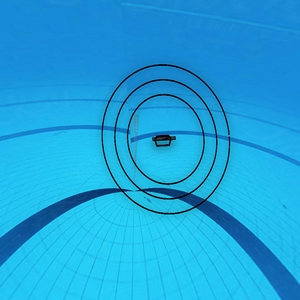circle: (101, 63, 234, 214)
submarine: (151, 133, 178, 149)
